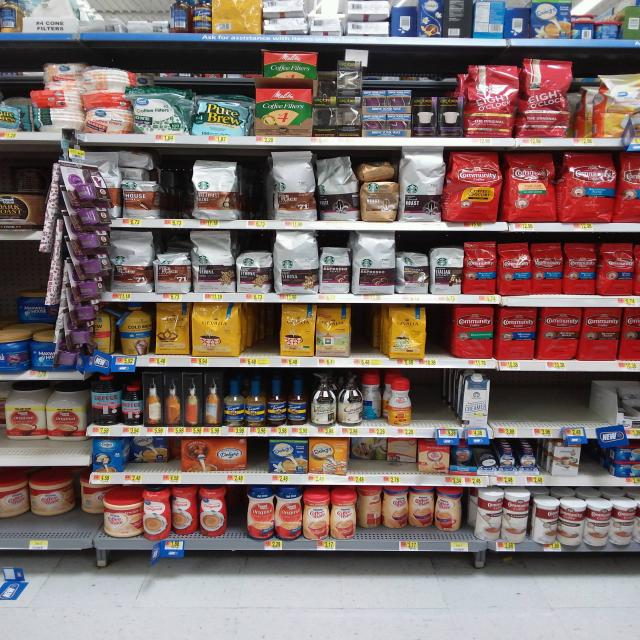unorganised: (244, 304, 432, 361), (3, 384, 87, 454), (1, 473, 102, 530), (356, 486, 463, 538), (179, 438, 247, 474), (349, 438, 417, 471), (533, 492, 559, 545), (128, 438, 168, 470), (172, 483, 195, 538), (559, 500, 585, 547), (363, 376, 382, 423), (316, 68, 339, 97)
